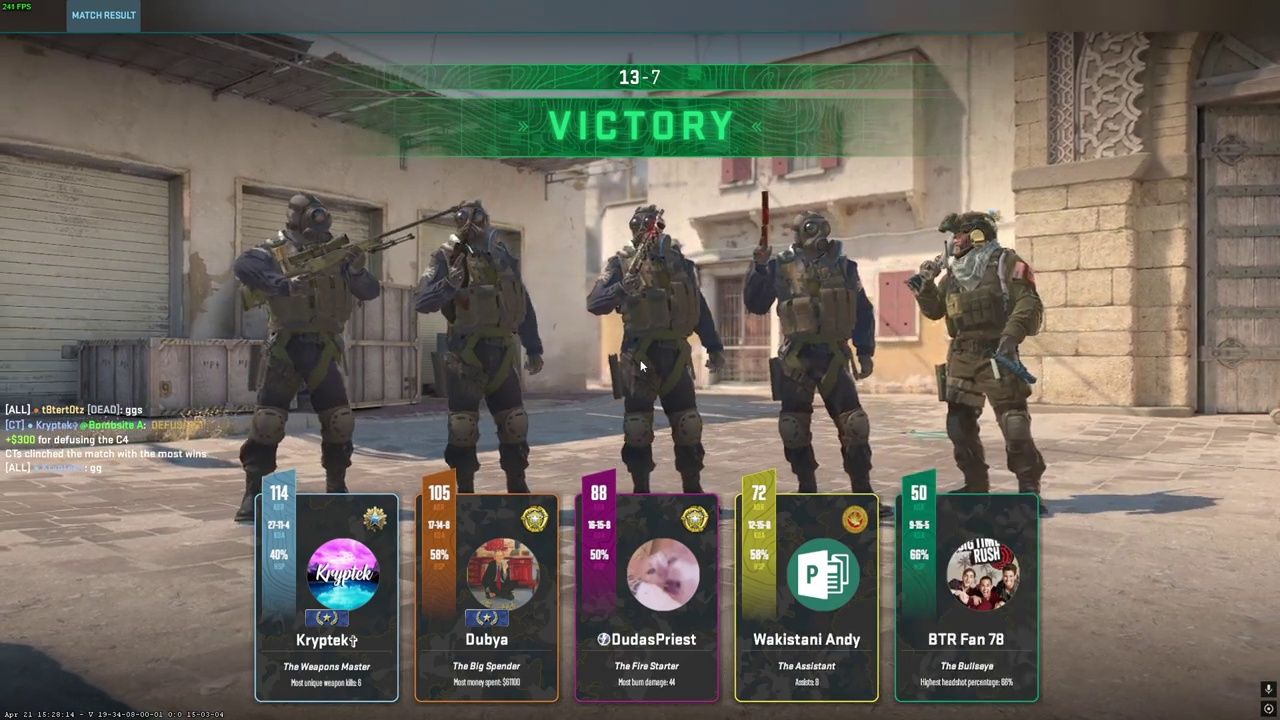CT: (238, 192, 371, 520), (761, 210, 873, 522), (425, 199, 535, 513), (932, 212, 1042, 520), (603, 204, 708, 500)
